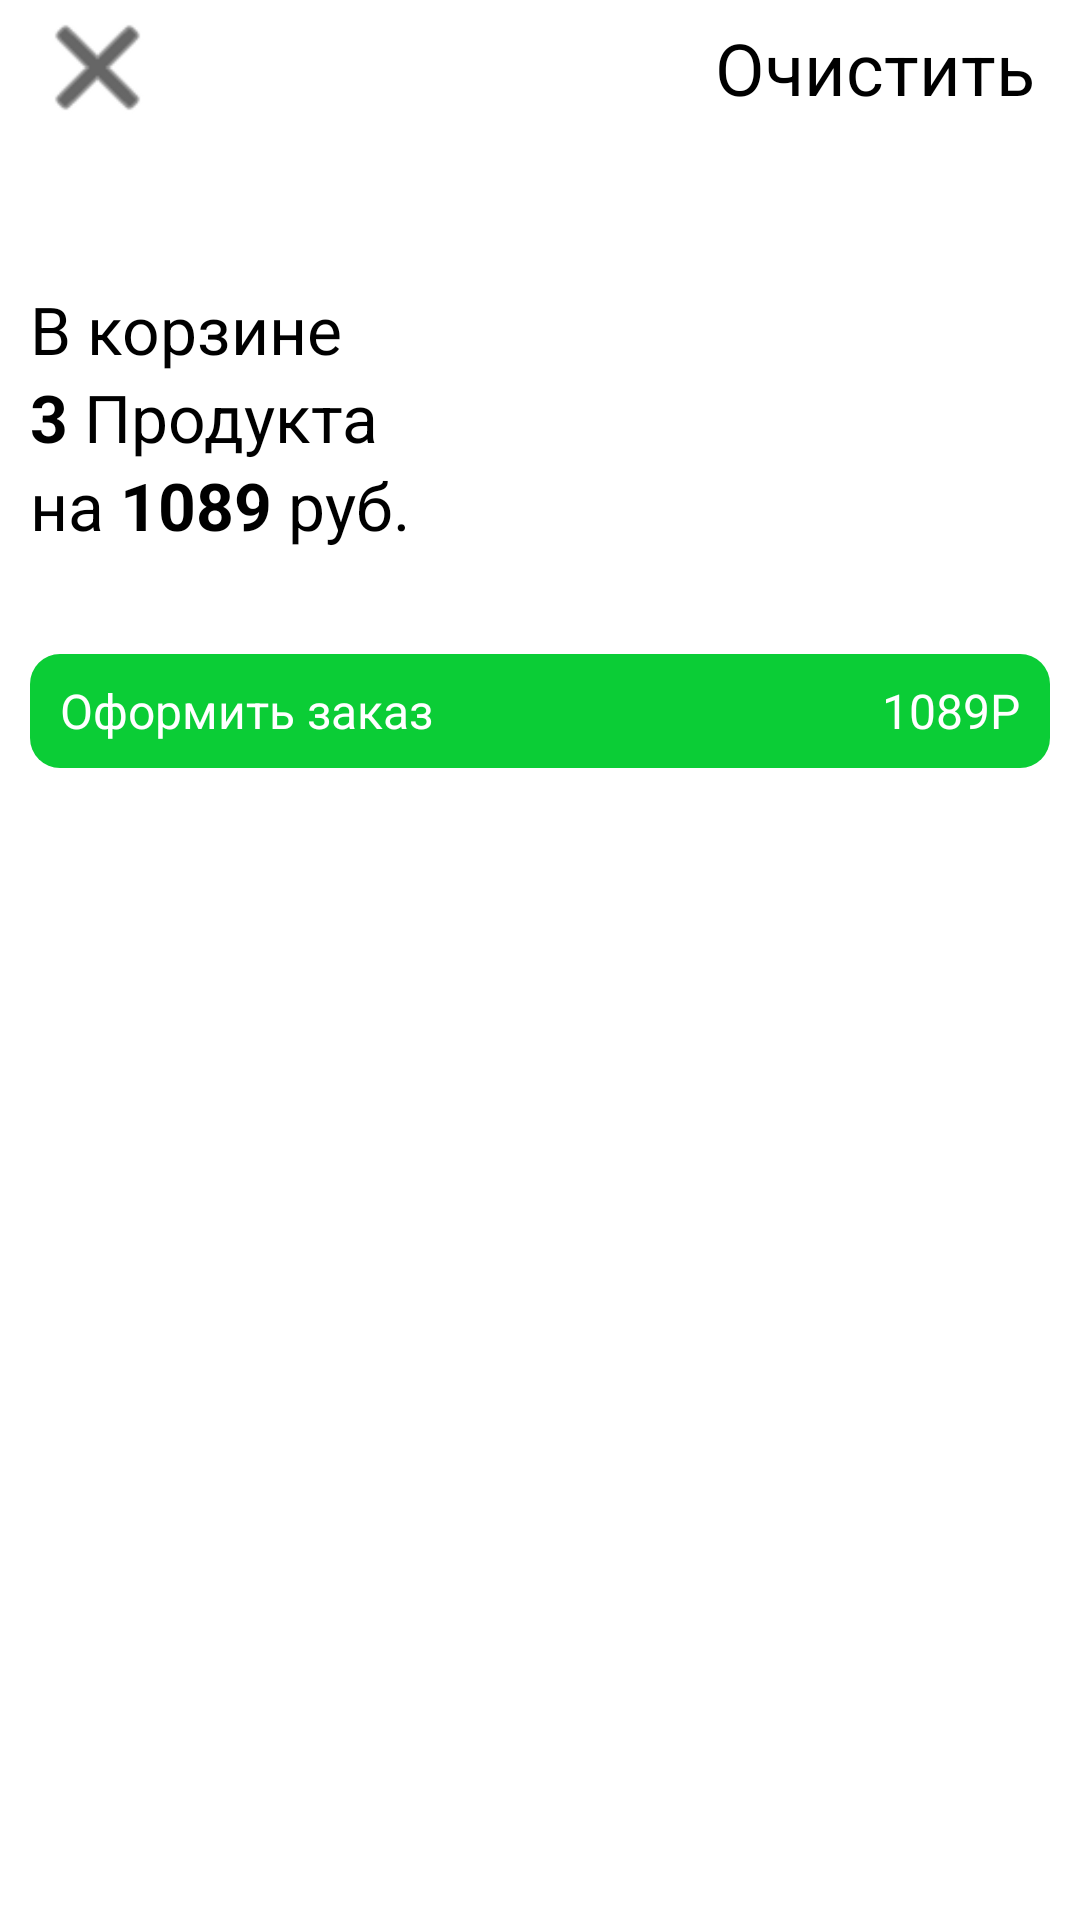

Named icons in this screenshot (1080x1920) and their bounding boxes, (x1, y1, x2, y2):
close clear cancel: (55, 25, 140, 110)
